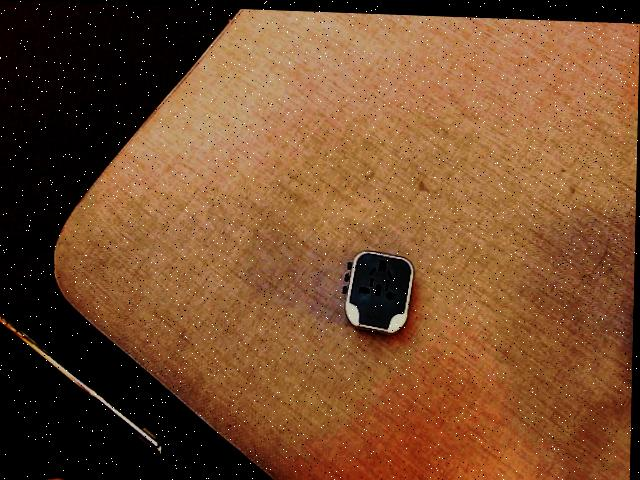adapter: (341, 246, 415, 332)
